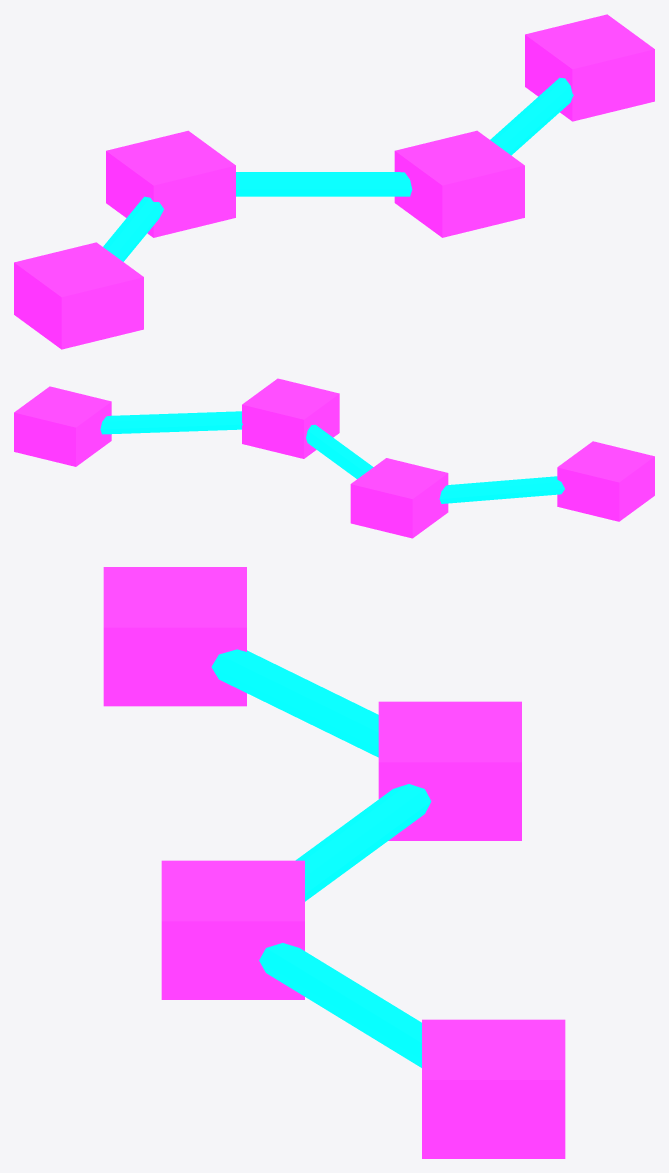
Rendered from prism_chain.glb.
3 views of the same model, one above another, from view 1: azimuth 30°, elevation 25°; view 2: azimuth 150°, elevation 25°; view 3: azimuth 270°, elevation 25° (orthographic). The views are drawn at different scales.
Visible parts, largest first — view 1: PrismChainLink0, PrismChainLink2, PrismChainLink3, PrismChainLink1, PrismChainCyanTube2, PrismChainCyanTube3, PrismChainCyanTube1; view 2: PrismChainLink0, PrismChainLink1, PrismChainLink3, PrismChainLink2, PrismChainCyanTube3, PrismChainCyanTube1, PrismChainCyanTube2; view 3: PrismChainLink3, PrismChainLink0, PrismChainLink2, PrismChainLink1, PrismChainCyanTube3, PrismChainCyanTube1, PrismChainCyanTube2.
Boxes of the visible parts, box(x1,y1,x2,y2) form: PrismChainLink0: box(14, 242, 143, 349); PrismChainLink2: box(394, 130, 524, 237); PrismChainLink3: box(525, 14, 654, 121); PrismChainLink1: box(106, 130, 235, 237); PrismChainCyanTube2: box(236, 172, 412, 196); PrismChainCyanTube3: box(490, 77, 573, 155); PrismChainCyanTube1: box(103, 196, 163, 261); PrismChainLink0: box(557, 441, 654, 521); PrismChainLink1: box(350, 458, 448, 538); PrismChainLink3: box(14, 386, 111, 466); PrismChainLink2: box(242, 378, 339, 458); PrismChainCyanTube3: box(100, 411, 242, 434); PrismChainCyanTube1: box(439, 476, 564, 503); PrismChainCyanTube2: box(306, 424, 373, 478); PrismChainLink3: box(422, 1019, 565, 1158); PrismChainLink0: box(103, 567, 246, 706); PrismChainLink2: box(161, 860, 304, 999); PrismChainLink1: box(378, 701, 521, 840); PrismChainCyanTube3: box(259, 943, 421, 1067); PrismChainCyanTube1: box(211, 649, 378, 757); PrismChainCyanTube2: box(295, 784, 431, 901).
Bounding box in the file's own units: 1.78 × 0.1272 × 0.6763.
